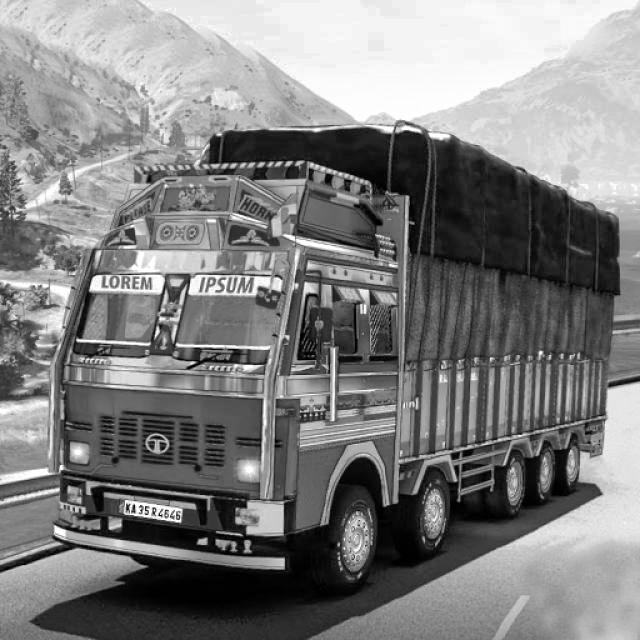HCV: (38, 55, 627, 617)
